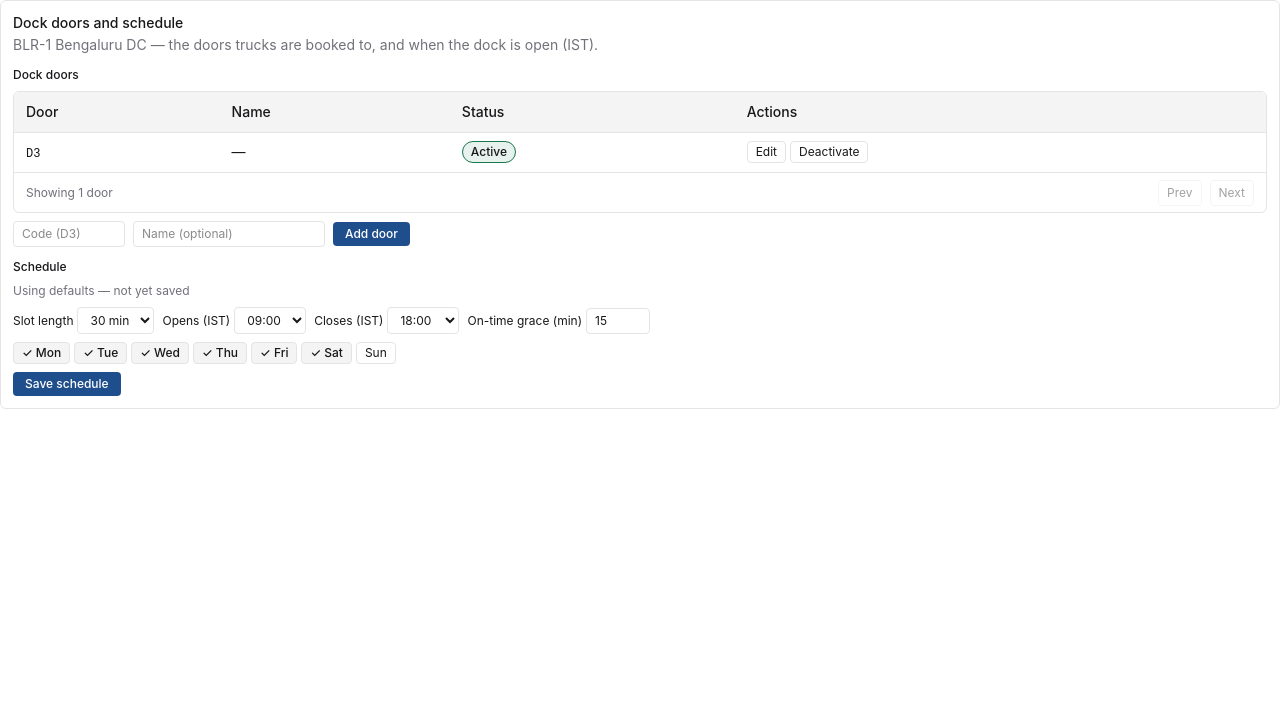
it: AC3 — set up › Deactivate confirms inline and PATCHes the full door; a door with bookings to come is refused, naming them
The image size is (1280, 720).
Click the button "Deactivate". click: [829, 152]
box: top-left (790, 141), bottom-right (868, 163)
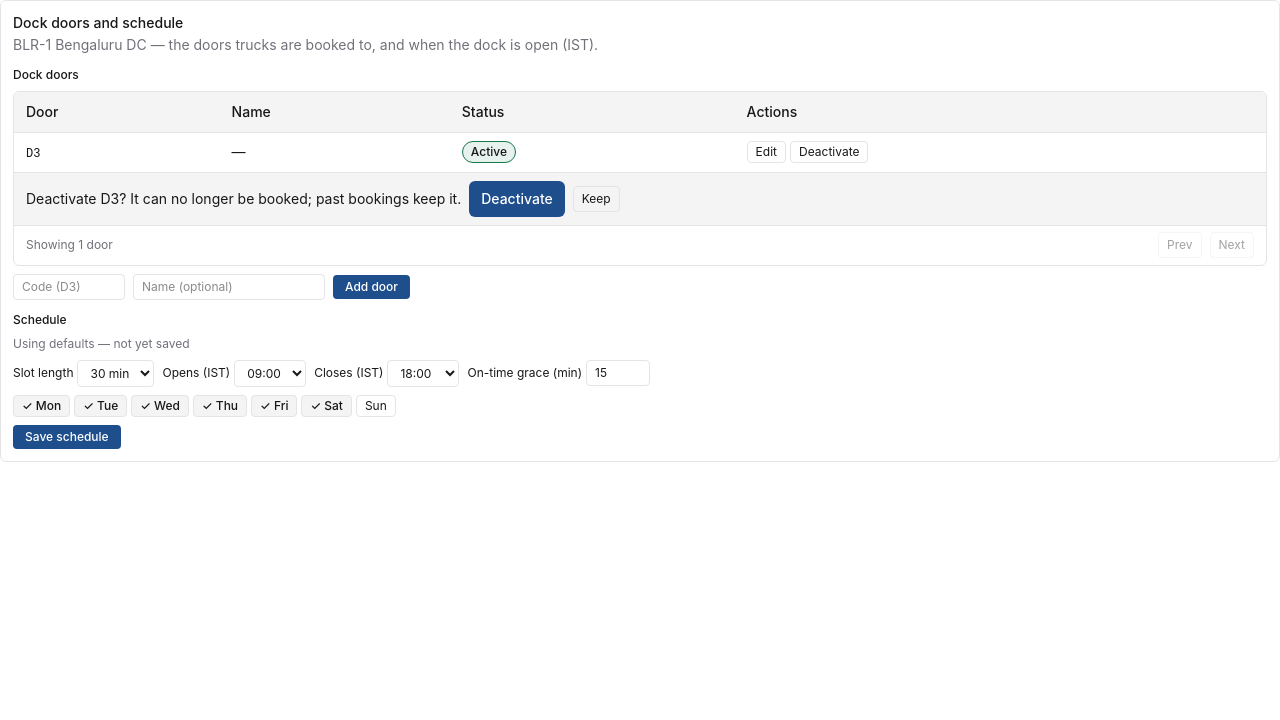
Check: the 2nd button "Deactivate" is shown
Click the 2nd button "Deactivate". click: [517, 198]
box: top-left (469, 180), bottom-right (565, 216)
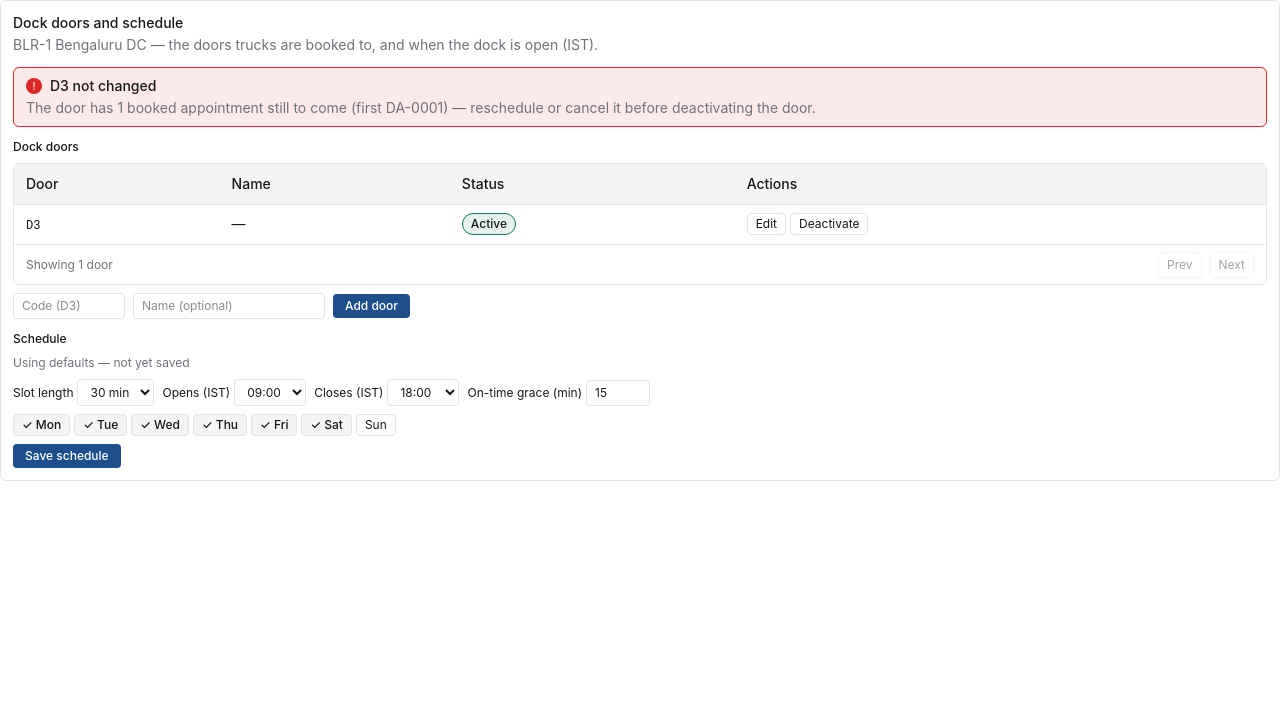
Check: the element with test id "dock-setup-card" shows "The door has 1 booked appointment still to come (first DA-0001)", box top-left (26, 99), bottom-right (816, 116)
Click the button "Deactivate". click: [829, 224]
box: top-left (790, 213), bottom-right (868, 235)
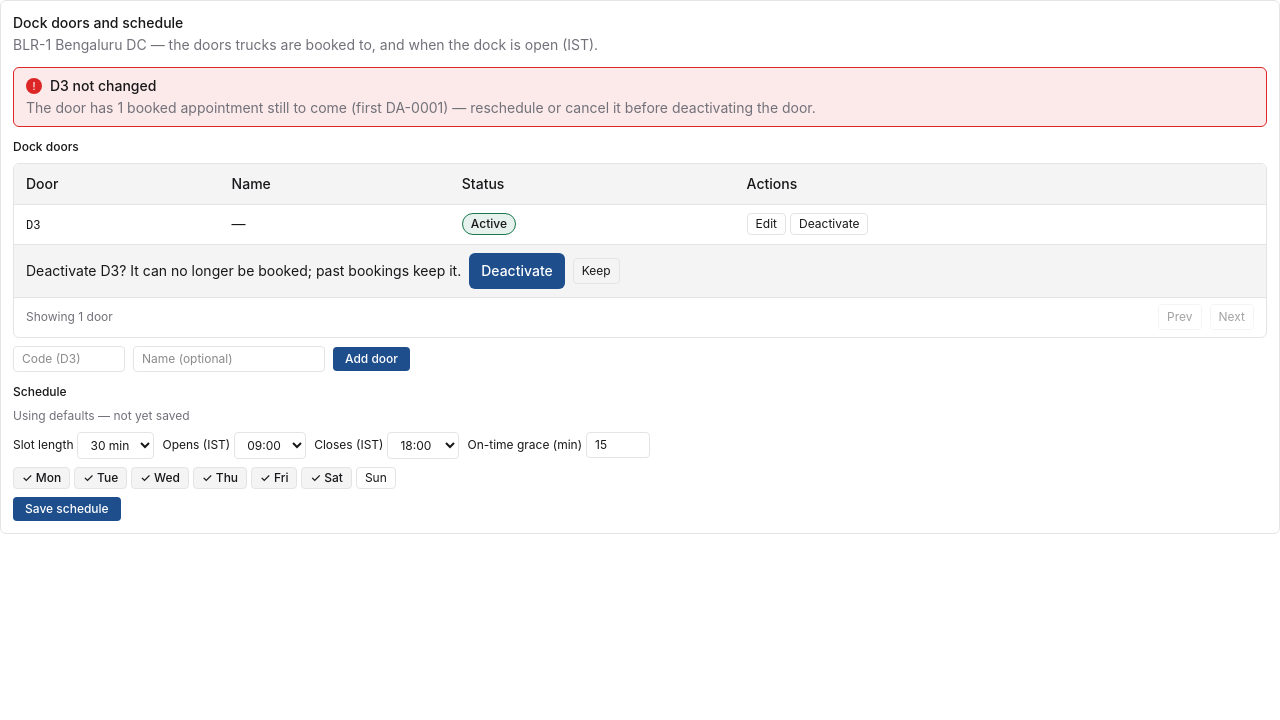
Check: the 2nd button "Deactivate" is shown
Click the 2nd button "Deactivate". click: [517, 270]
box: top-left (469, 252), bottom-right (565, 288)
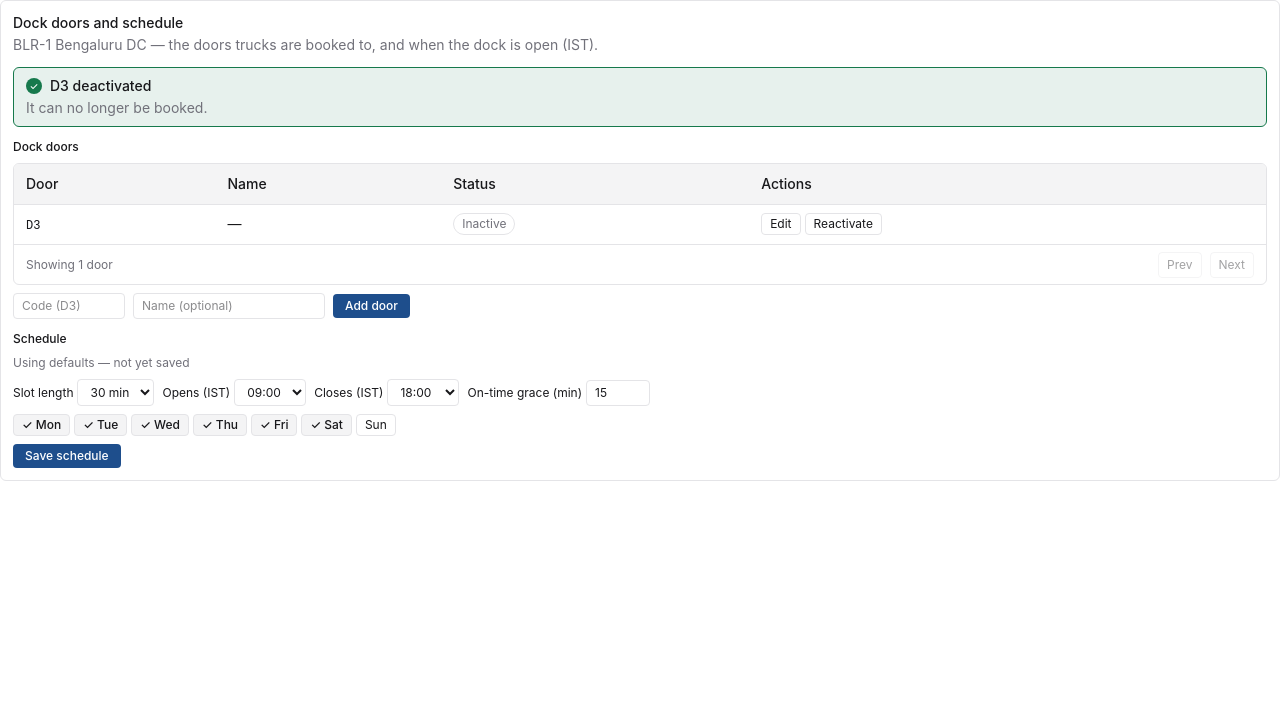
Check: the button "Reactivate" is shown, box top-left (805, 213), bottom-right (882, 235)
Check: the text with test id "dock-door-status-D3" reads "Inactive", box top-left (462, 216), bottom-right (506, 231)
